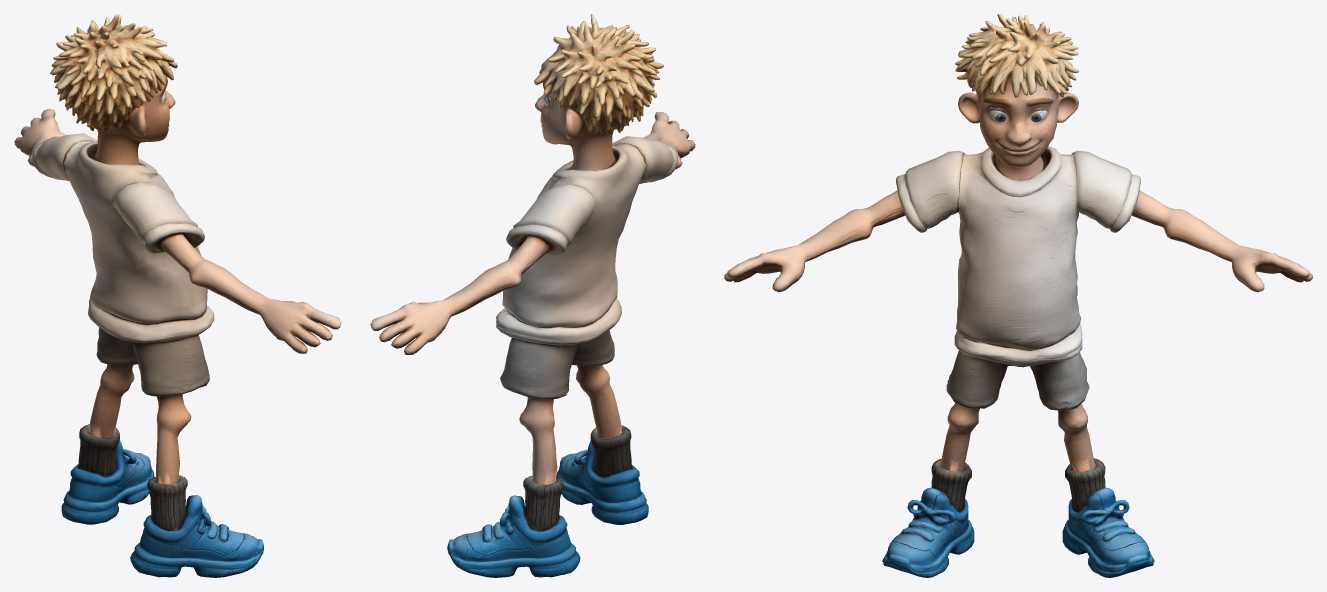
3 views of the same model, side by side, from view 1: azimuth 30°, elevation 25°; view 2: azimuth 150°, elevation 25°; view 3: azimuth 270°, elevation 25° (orthographic).
Visible parts, largest first — view 1: tripo_node_18aa86af; view 2: tripo_node_18aa86af; view 3: tripo_node_18aa86af.
Boxes of the visible parts, x1=… form: tripo_node_18aa86af: x1=14, y1=14, x2=341, y2=577; tripo_node_18aa86af: x1=370, y1=14, x2=695, y2=577; tripo_node_18aa86af: x1=724, y1=14, x2=1312, y2=577.
Size of the model in its own units: 0.2916 by 0.9804 by 1.
Materials: 1 (1 with a texture image).
